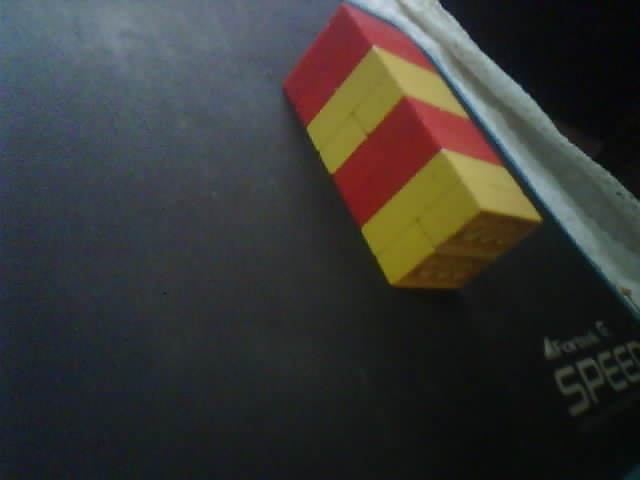lego: (279, 3, 546, 294)
